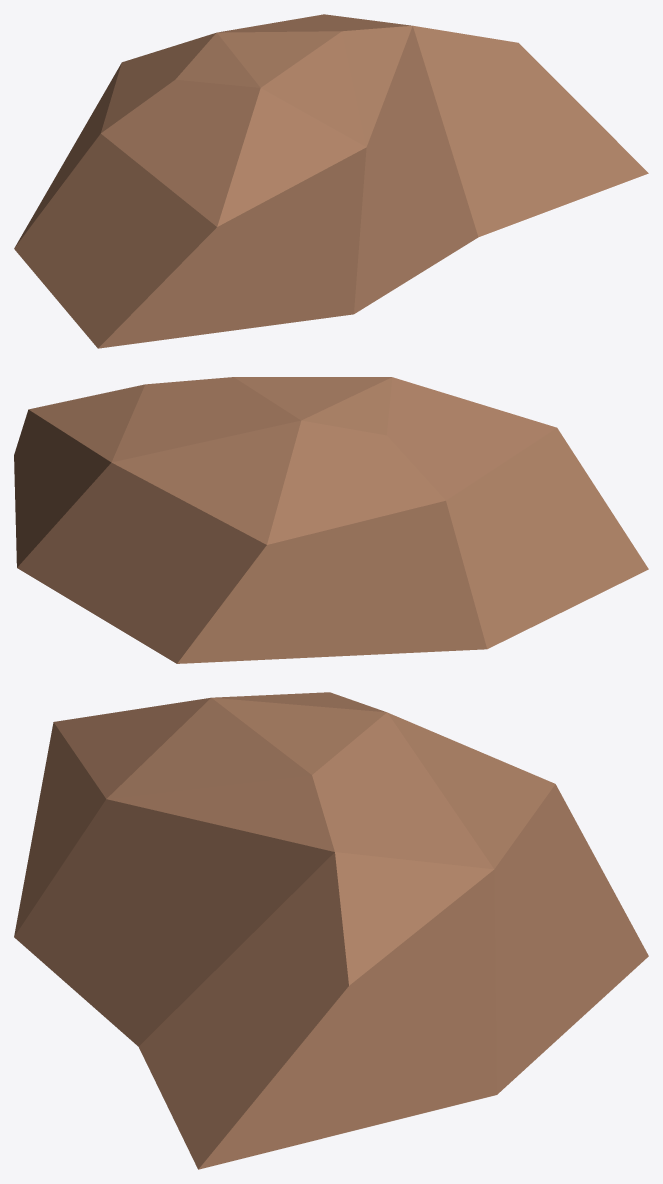
File: stone2222341.fbx
The picture shows the model from 3 angles, top to bottom: view 1: azimuth 30°, elevation 25°; view 2: azimuth 150°, elevation 25°; view 3: azimuth 270°, elevation 25°; orthographic projection. The views are drawn at different scales.
Visible parts, largest first — view 1: Stone 2.003; view 2: Stone 2.003; view 3: Stone 2.003.
Boxes of the visible parts, x1=… form: Stone 2.003: x1=14, y1=14, x2=648, y2=348; Stone 2.003: x1=14, y1=377, x2=648, y2=663; Stone 2.003: x1=14, y1=692, x2=648, y2=1169.
Size of the model in its own units: 79.87 by 22.6 by 56.86.
